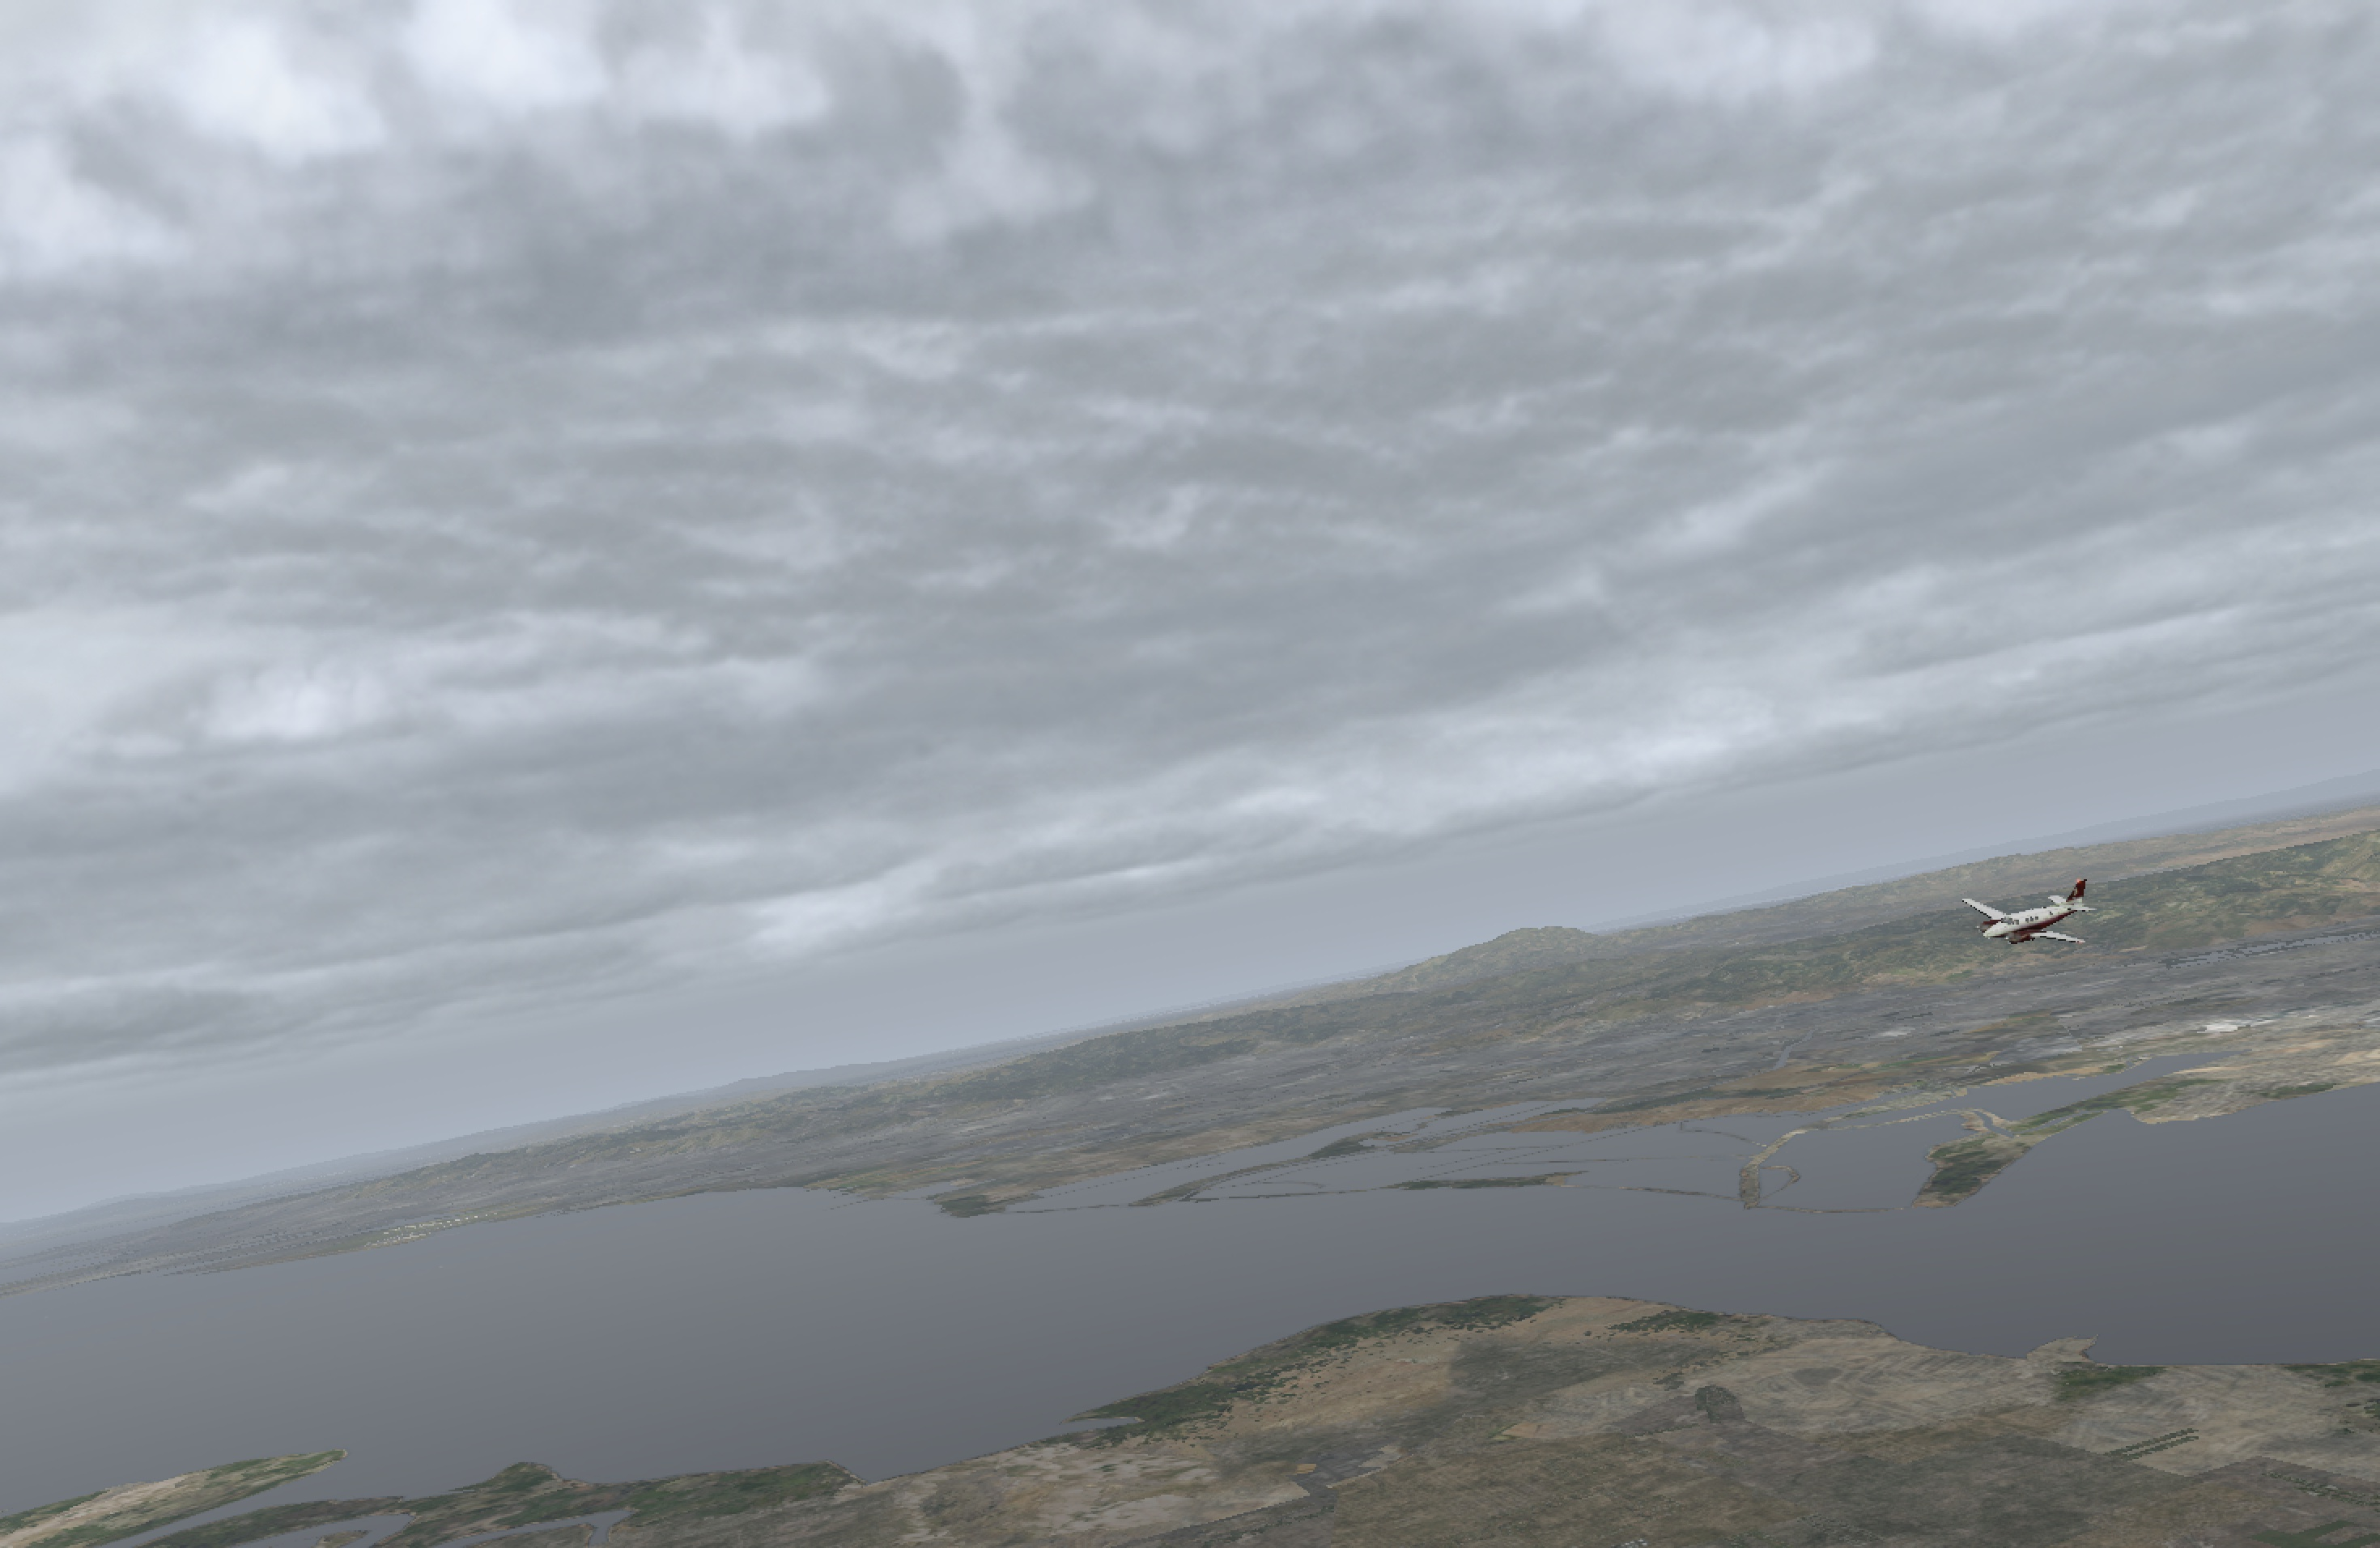aircraft: (1935, 900, 2101, 963)
